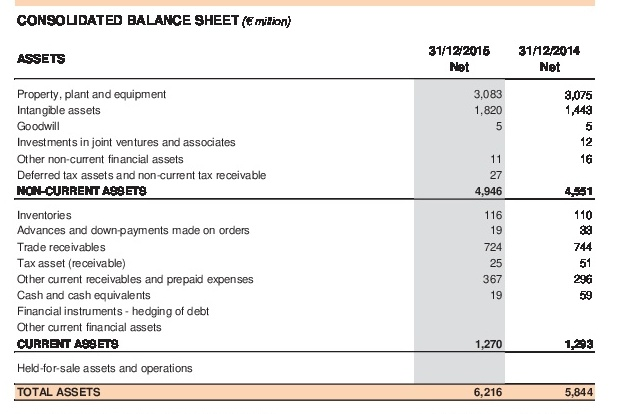table: (0, 0, 621, 414)
